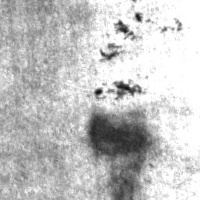patches: (87, 107, 155, 158), (108, 164, 144, 200)
